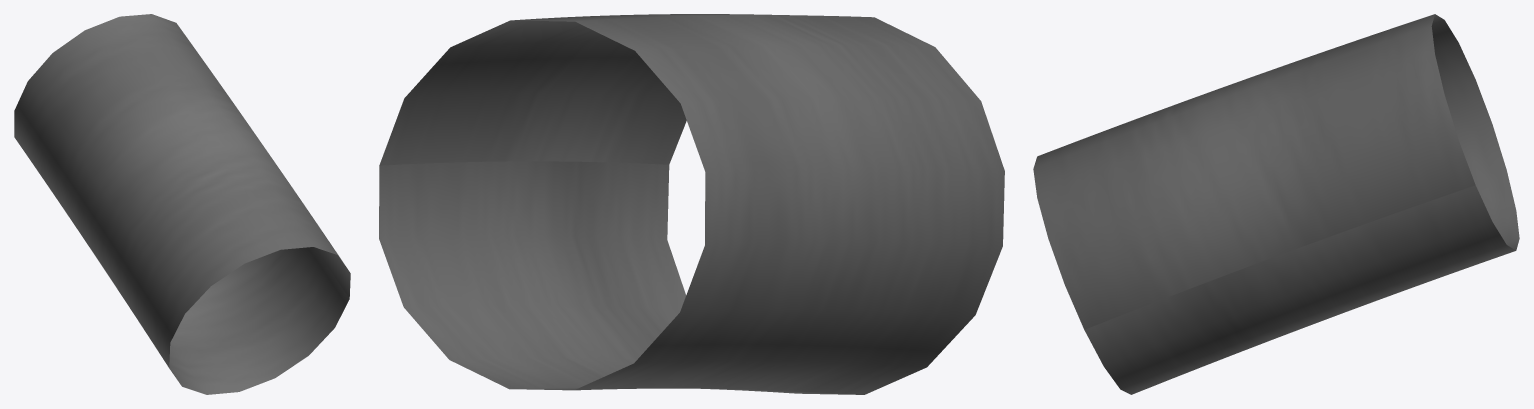
The model's file is mastarmcurve_8x2_c2.obj.
The picture shows the model from 3 angles, left to right: view 1: azimuth 30°, elevation 25°; view 2: azimuth 150°, elevation 25°; view 3: azimuth 270°, elevation 25°; orthographic projection. The views are drawn at different scales.
Parts seen in each view (by area): view 1: mastarm_8x2_c2; view 2: mastarm_8x2_c2; view 3: mastarm_8x2_c2.
Boxes of the visible parts, left/top/right/bottom form: mastarm_8x2_c2: left=14, top=14, right=350, bottom=394; mastarm_8x2_c2: left=379, top=14, right=1004, bottom=394; mastarm_8x2_c2: left=1033, top=14, right=1519, bottom=394.
Size of the model in its own units: 0.6083 by 0.9321 by 1.15.
